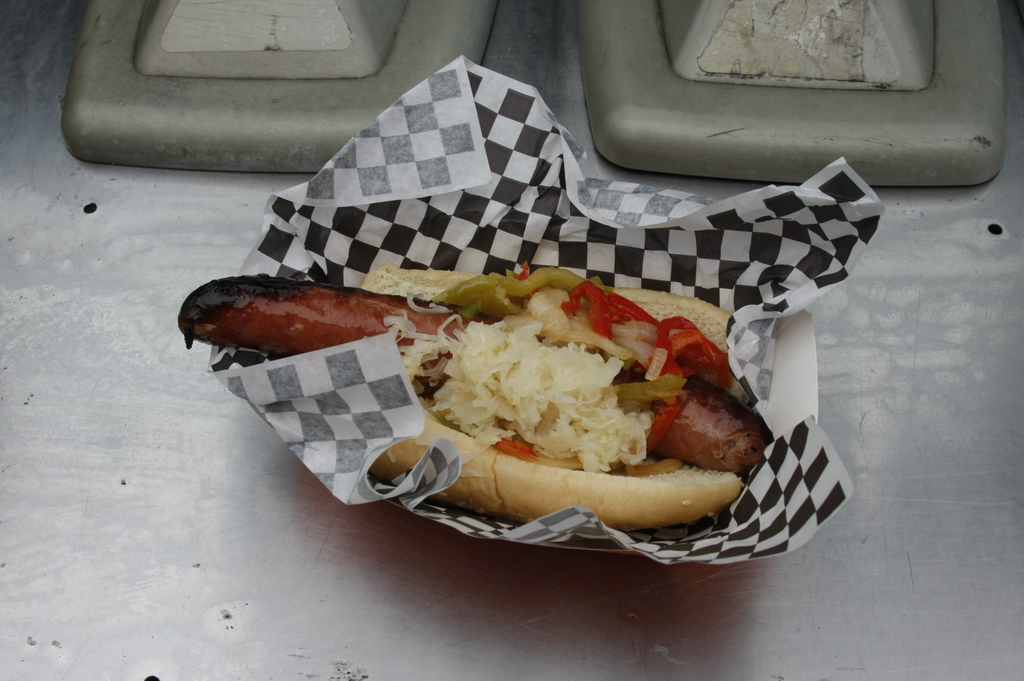hot_dog: (182, 263, 742, 520)
